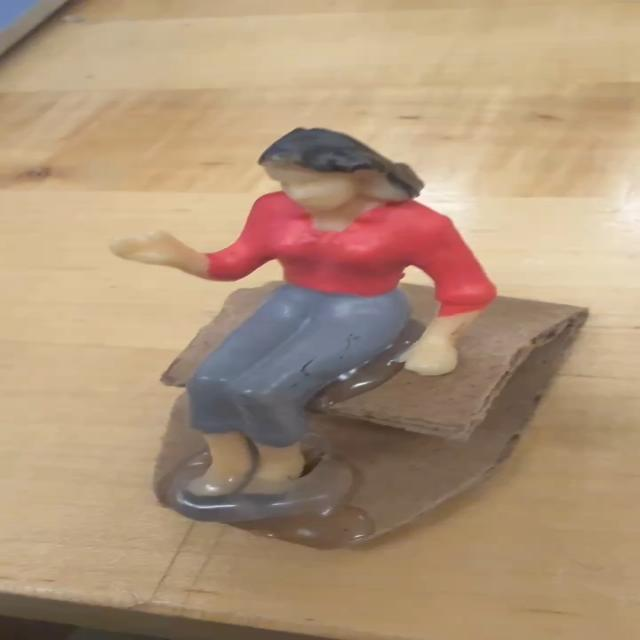Authorized: (73, 123, 513, 542)
